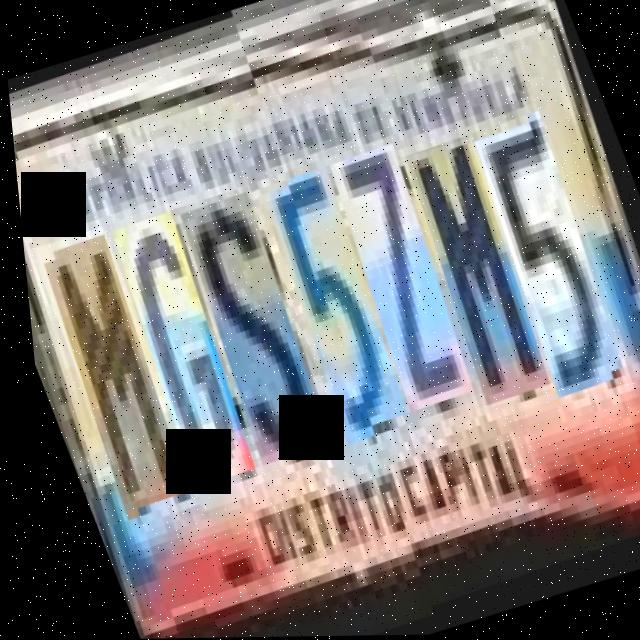5: (462, 121, 635, 401), (250, 168, 416, 439)
G: (95, 204, 259, 480)
M: (23, 226, 193, 504), (392, 137, 559, 409)
S: (164, 186, 334, 459)
Z: (317, 145, 483, 416)
